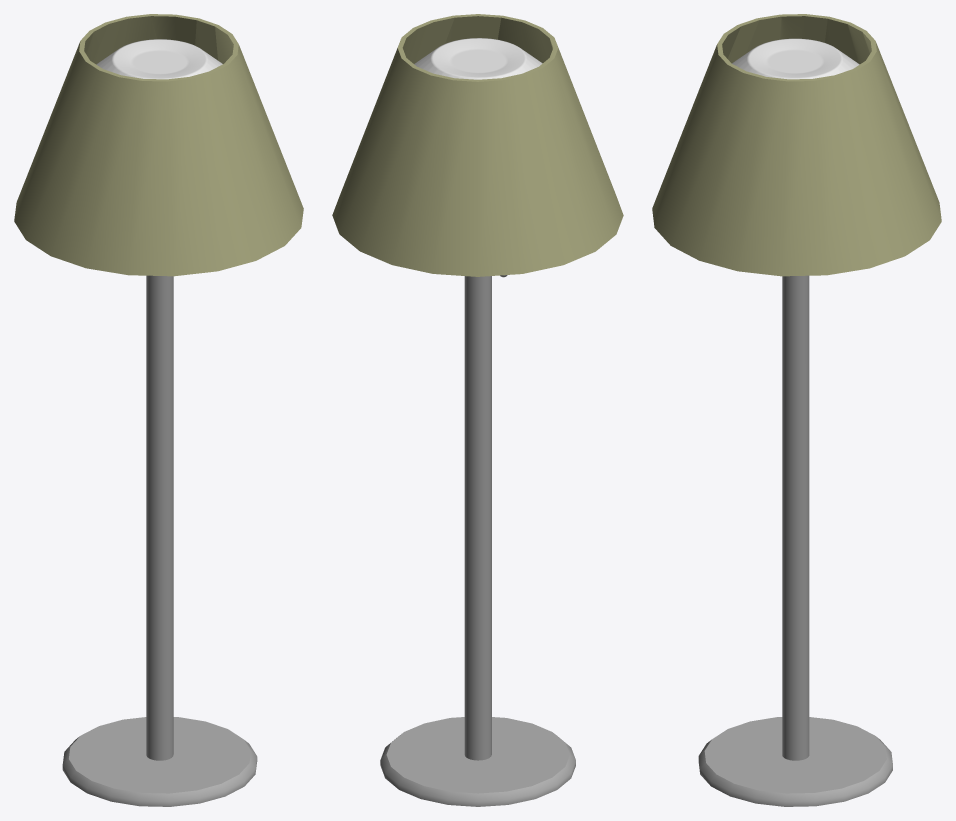
The model's file is lamp_2 1.fbx.
The picture shows the model from 3 angles, left to right: view 1: azimuth 30°, elevation 25°; view 2: azimuth 150°, elevation 25°; view 3: azimuth 270°, elevation 25°; orthographic projection.
Visible parts, largest first — view 1: sketchfab_render:pCylinder10; view 2: sketchfab_render:pCylinder10; view 3: sketchfab_render:pCylinder10.
Part boxes in pixels (box(x1,y1,x2,y2)): sketchfab_render:pCylinder10: box(14, 14, 303, 806); sketchfab_render:pCylinder10: box(332, 14, 623, 806); sketchfab_render:pCylinder10: box(652, 14, 941, 806).
Bounding box in the file's own units: 677 × 1851 × 677.
